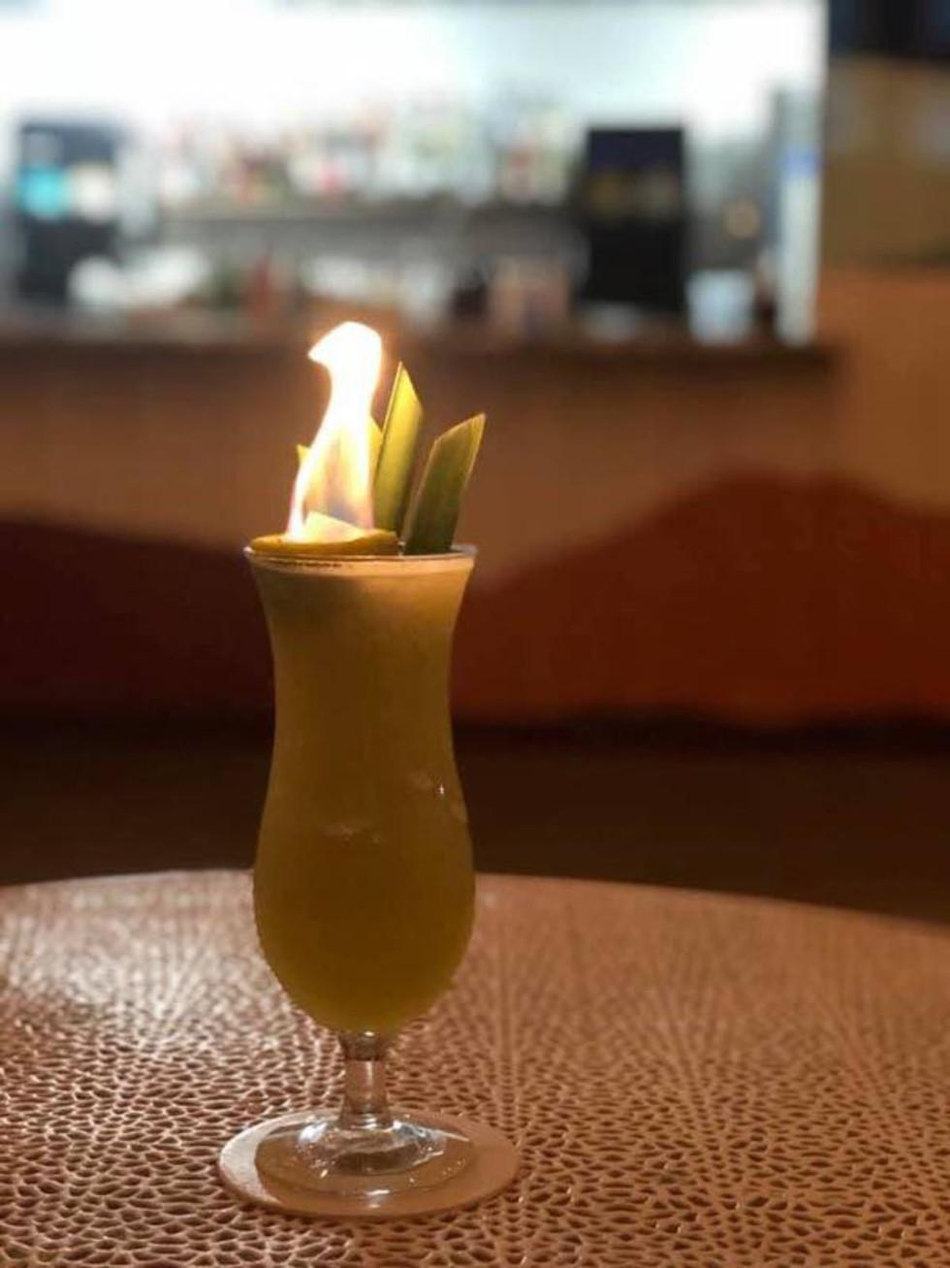glass-wine: (216, 515, 519, 1218)
